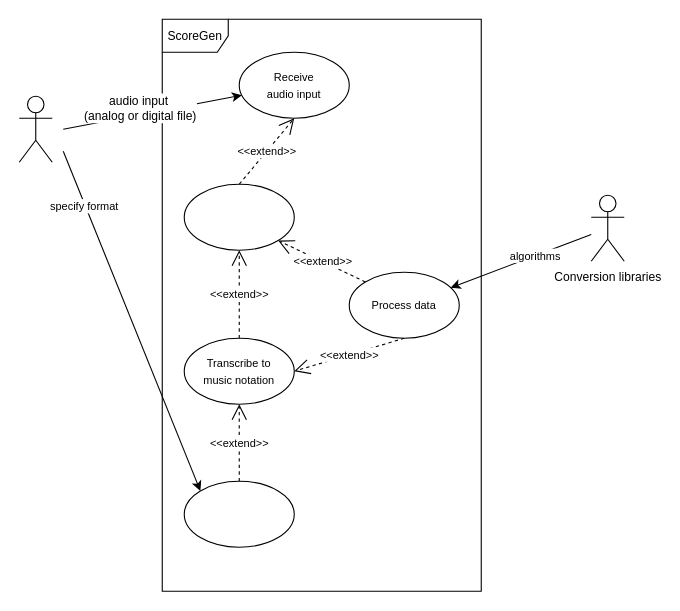
This 680x611 diagram has some shape labels left out. The centre of each missing label's shape, as x and y in pixels:
Create exportable: the point at 238,513
Time to frequency domain conversion: the point at 238,216
User: the point at 35,128
